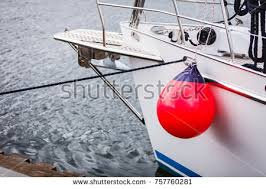buoy: (155, 77, 217, 139)
